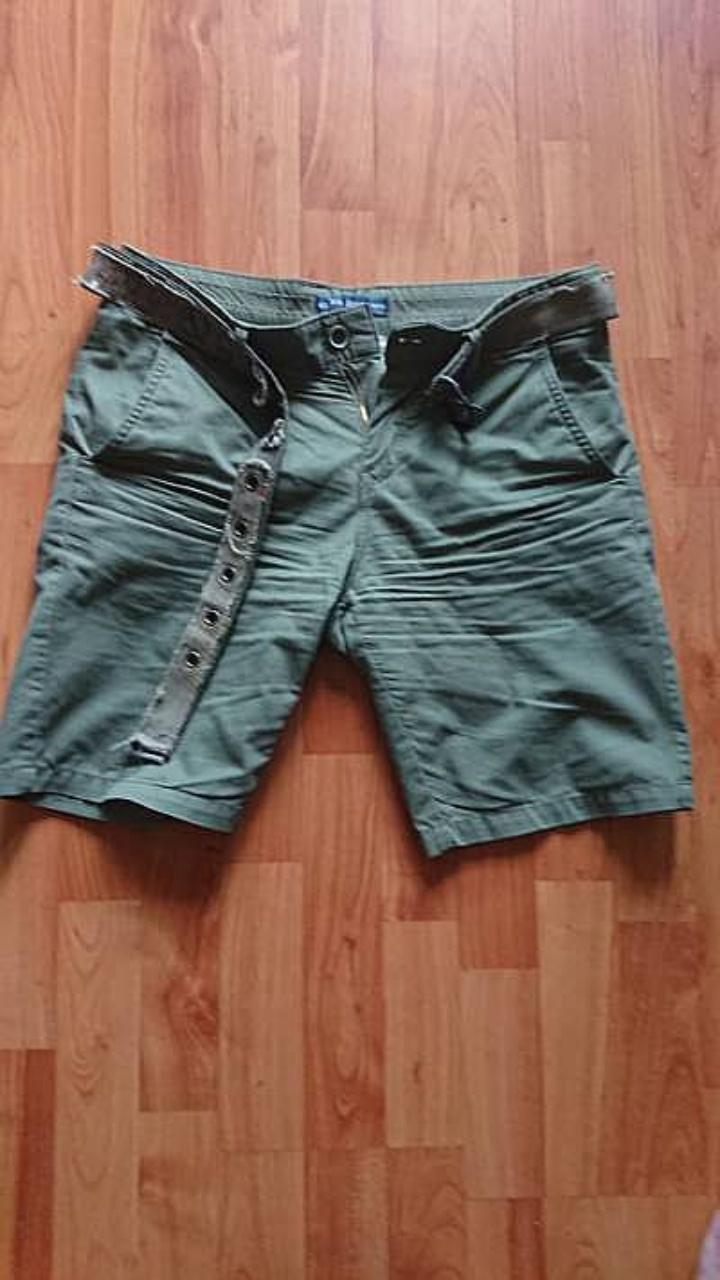Shorts: (0, 242, 692, 856)
